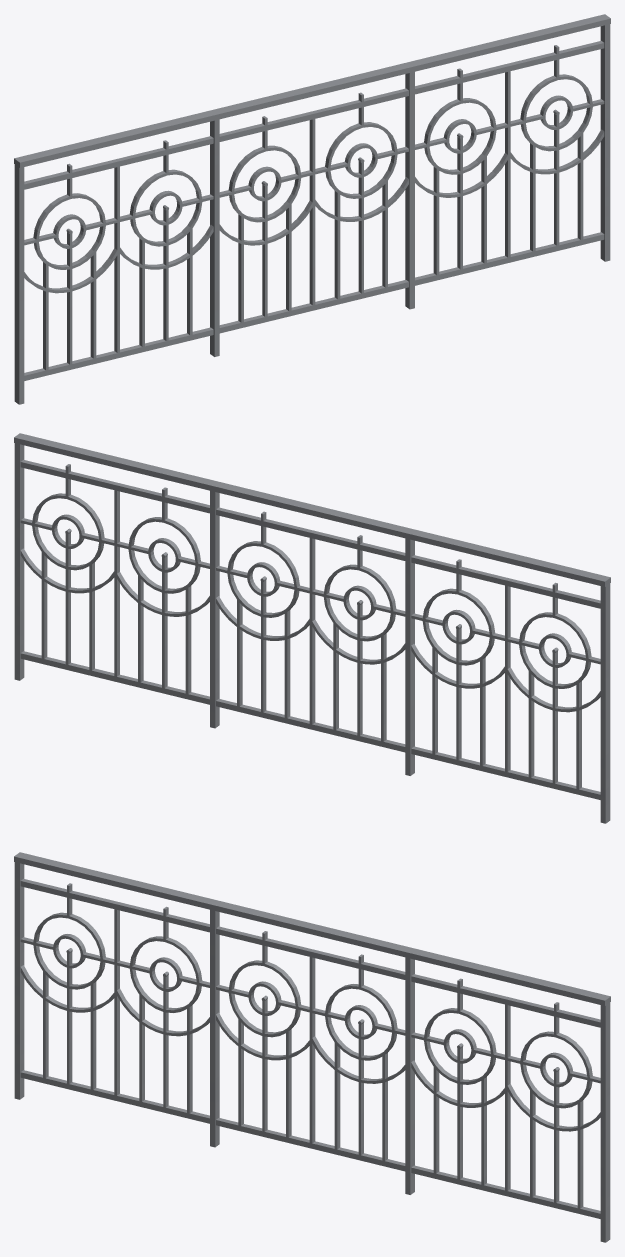
File: railing_1.obj
The picture shows the model from 3 angles, top to bottom: view 1: azimuth 30°, elevation 25°; view 2: azimuth 150°, elevation 25°; view 3: azimuth 330°, elevation 25°; orthographic projection.
Parts seen in each view (by area): view 1: Railing_1; view 2: Railing_1; view 3: Railing_1.
Part boxes in pixels (box(x1,y1,x2,y2)): Railing_1: box(14, 14, 610, 404); Railing_1: box(14, 433, 610, 823); Railing_1: box(14, 852, 610, 1242).
Size of the model in its own units: 2.29 by 0.9 by 0.04.
